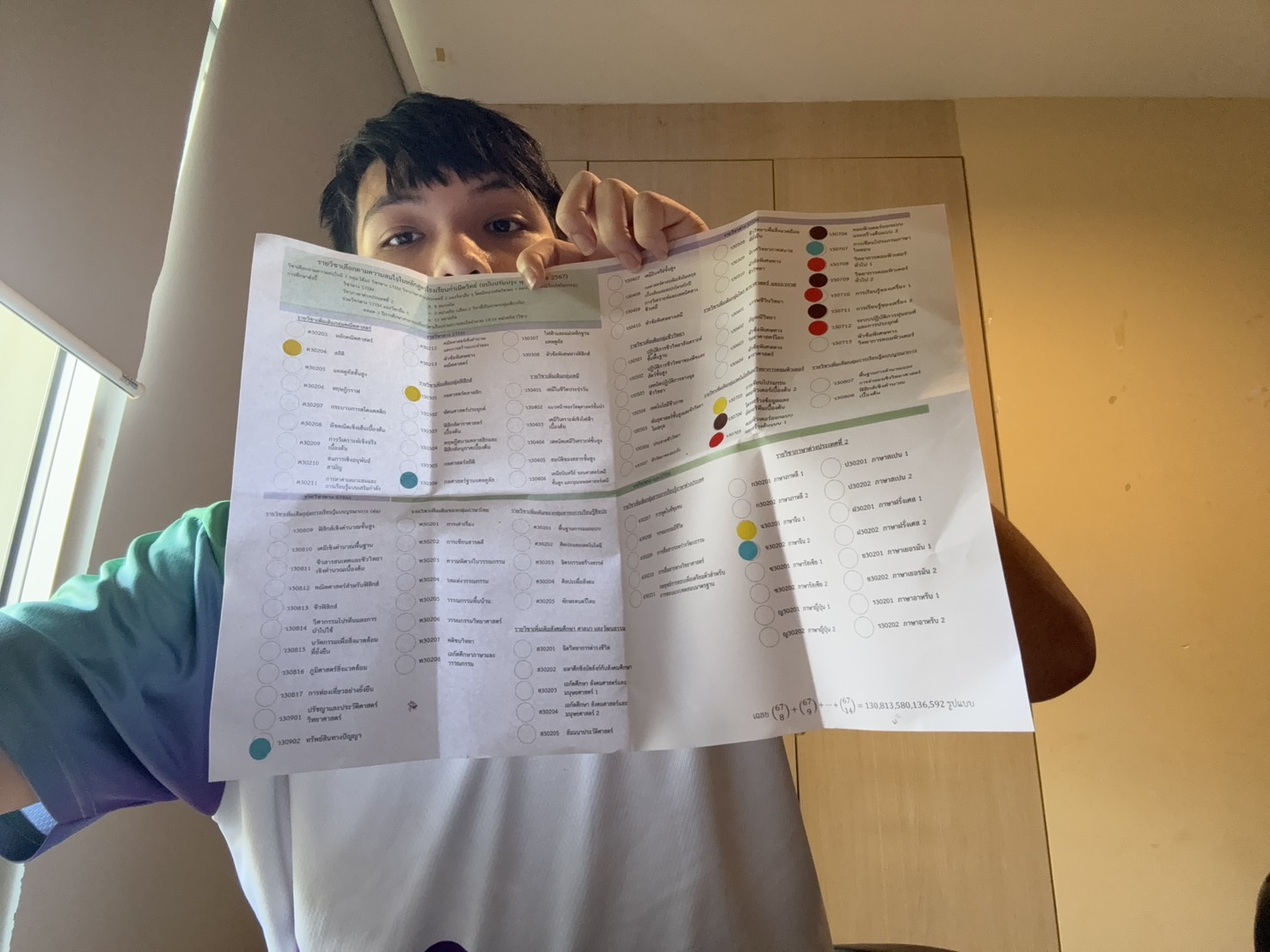paper: (208, 203, 1035, 782)
